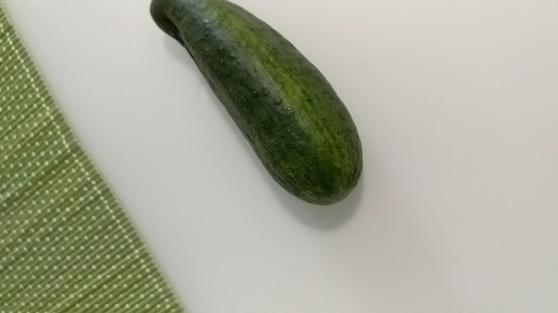cucumber: (144, 1, 367, 205)
